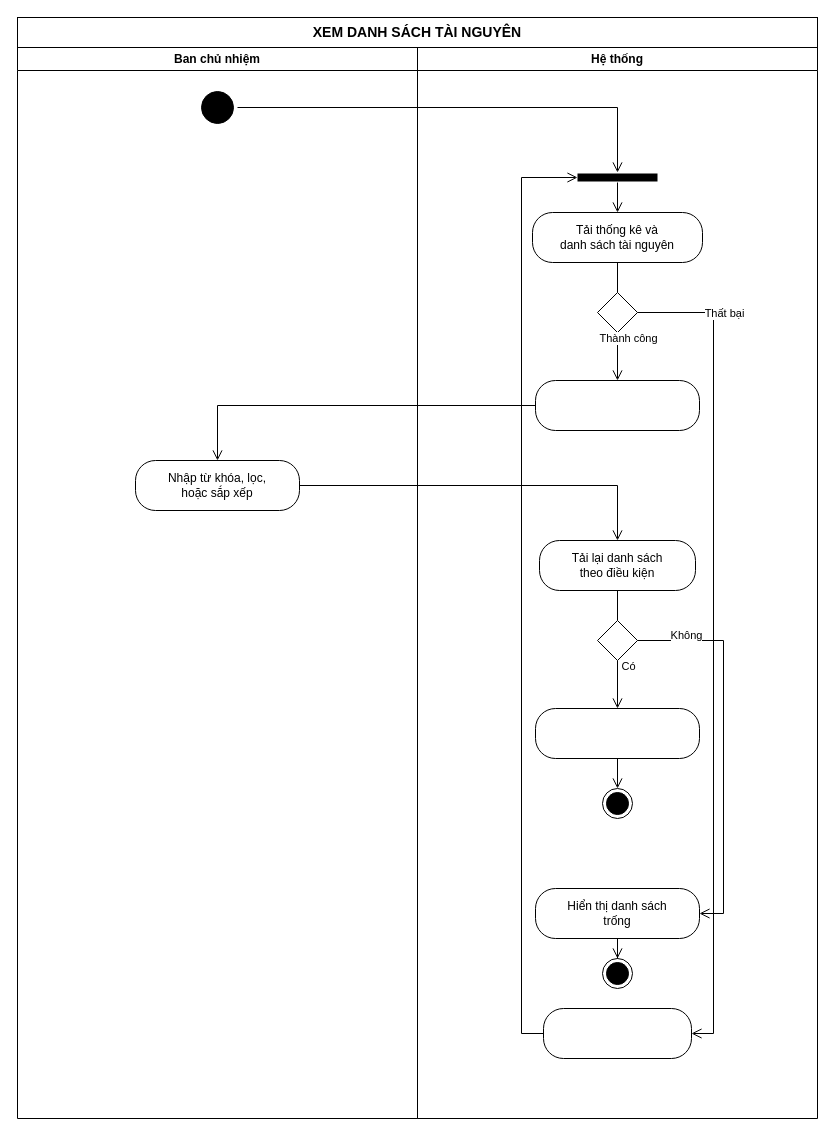
Some shapes in this 835 by 1136 pixel diagram are drawn without their labels. The centre of each missing label's shape, as x and y in pixels:
Hiển thị danh sách cập nhật: point 617,733
Hiển thị danh sách và thống kê: point 617,405
Thông báo tải dữ liệu thất bại: point 617,1033
